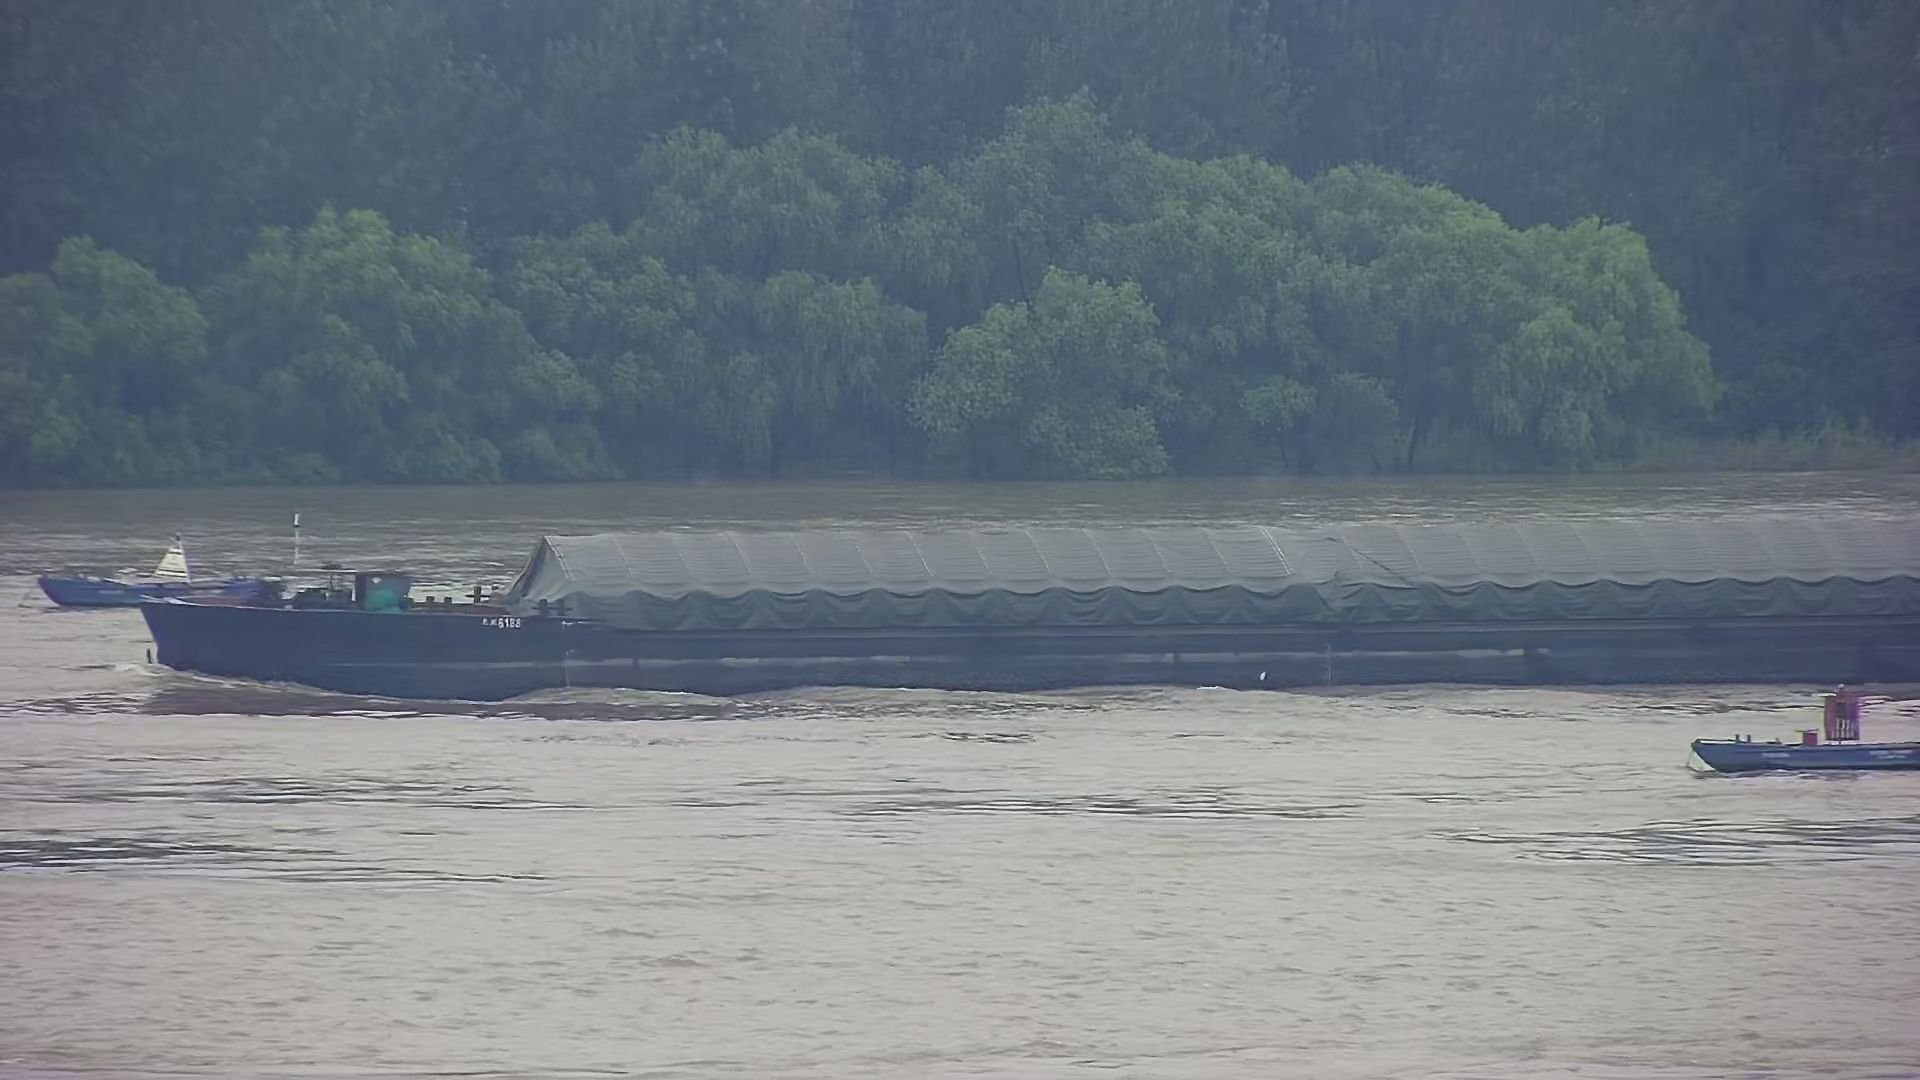boat: (29, 517, 278, 611), (1683, 680, 1920, 777)
ship: (138, 501, 1920, 694)
